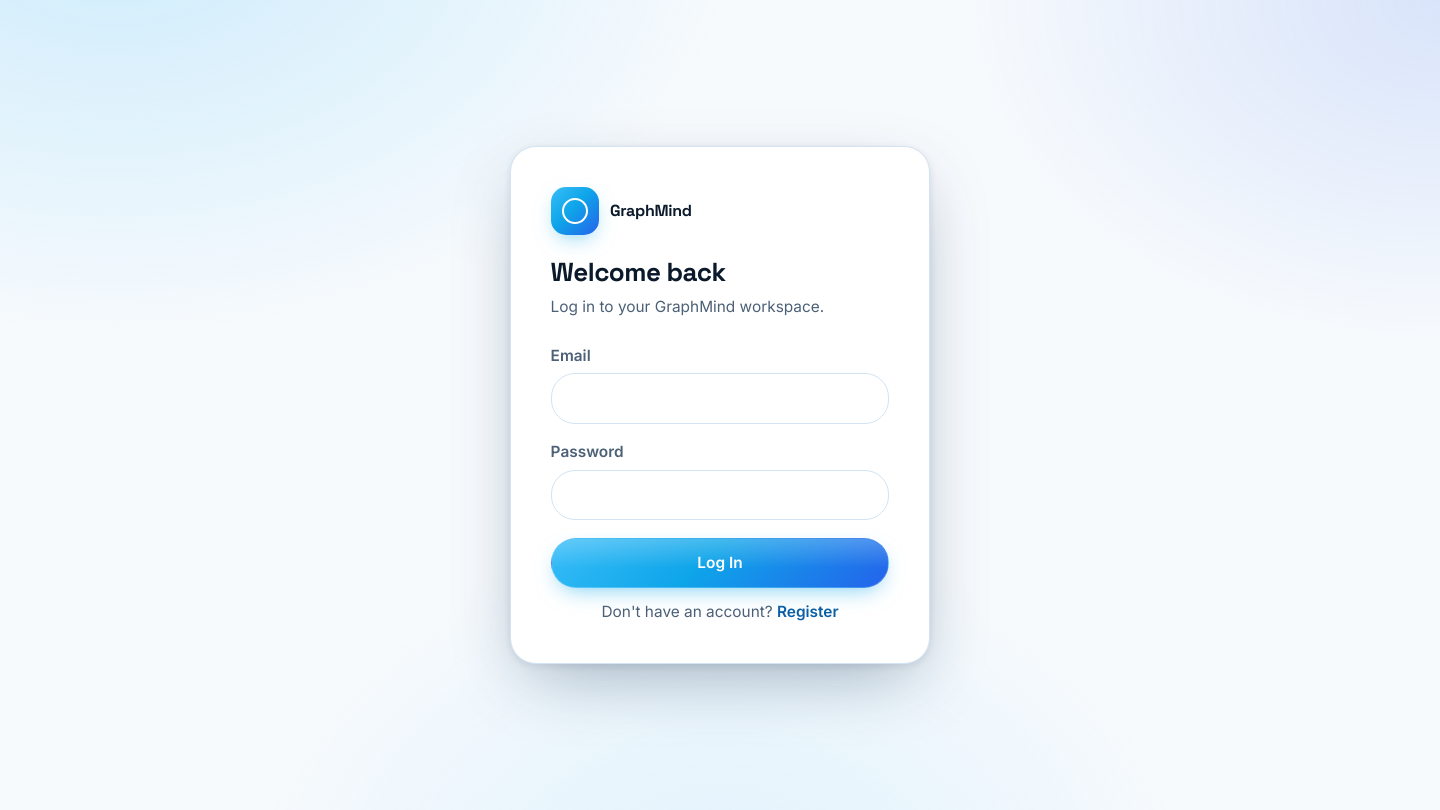
Test: LoginPage email-verification gate (Story 1.6) › offers a resend action when login rejects with a 403
The width and height of the screenshot is (1440, 810).
Type "maria@example.com" into the field labelled "Email" at (720, 398), box [551,373,889,424]
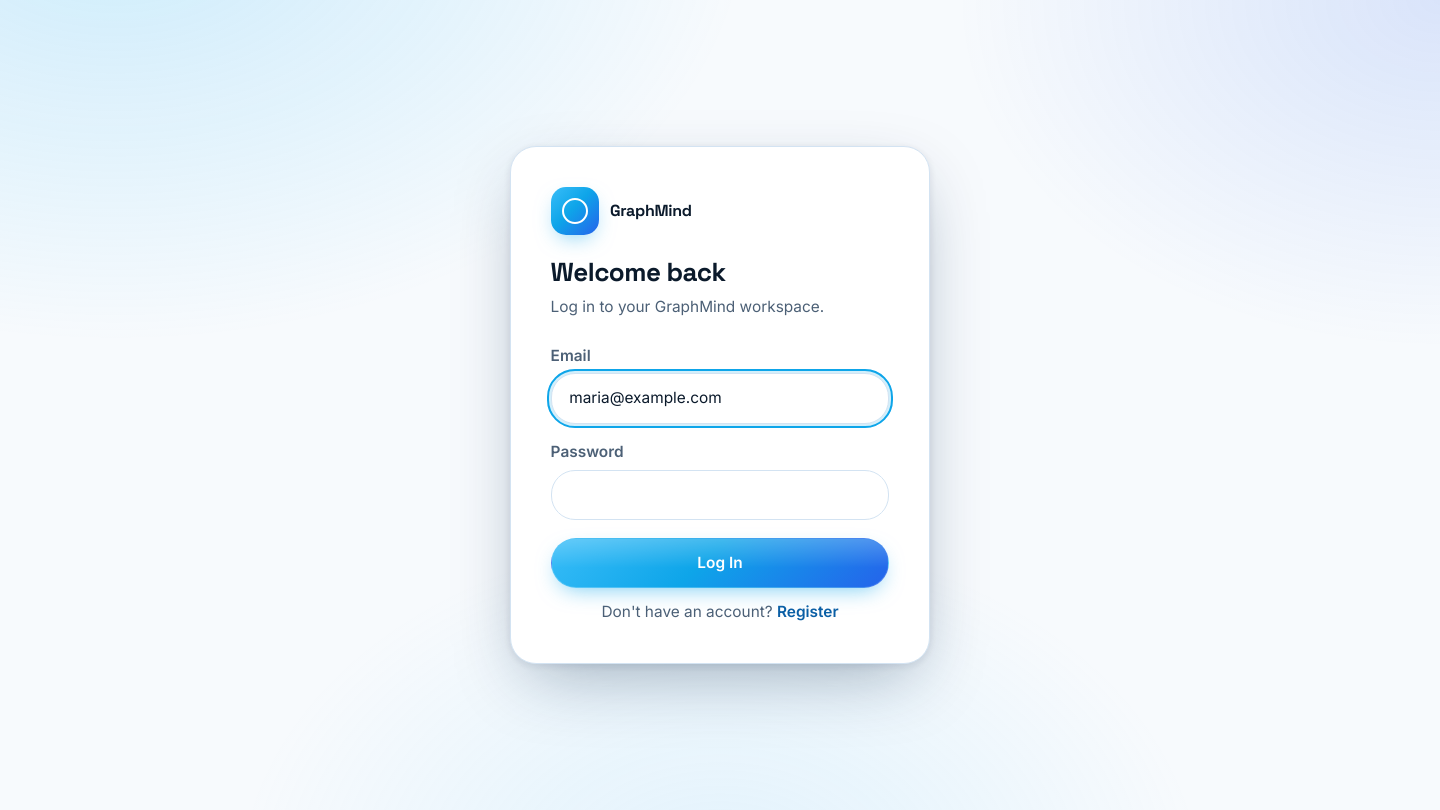
Type "correct horse battery staple" into the password field labelled "Password" at (720, 495), box [551,470,889,520]
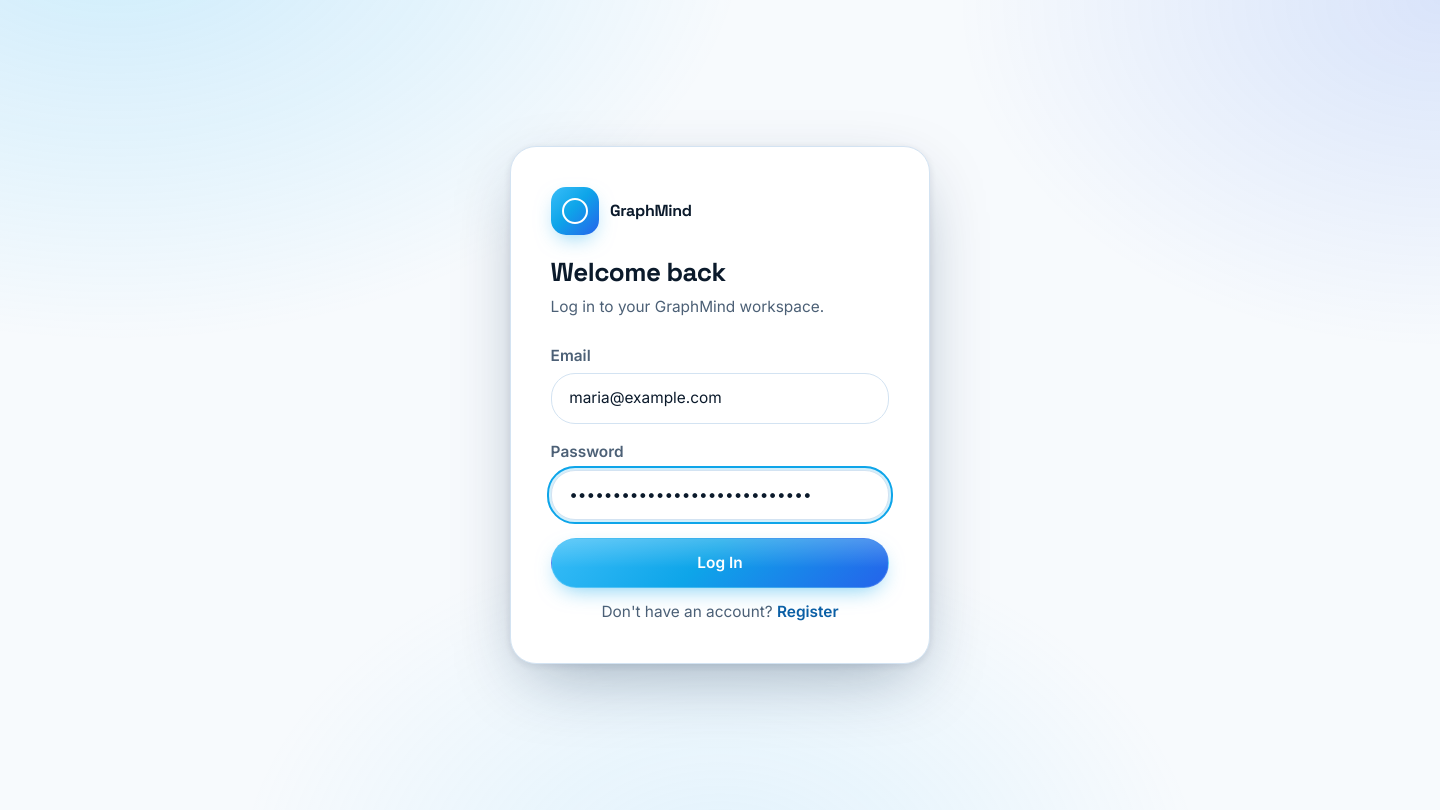
Click the button "Log In" at (720, 563), box [551,538,889,588]
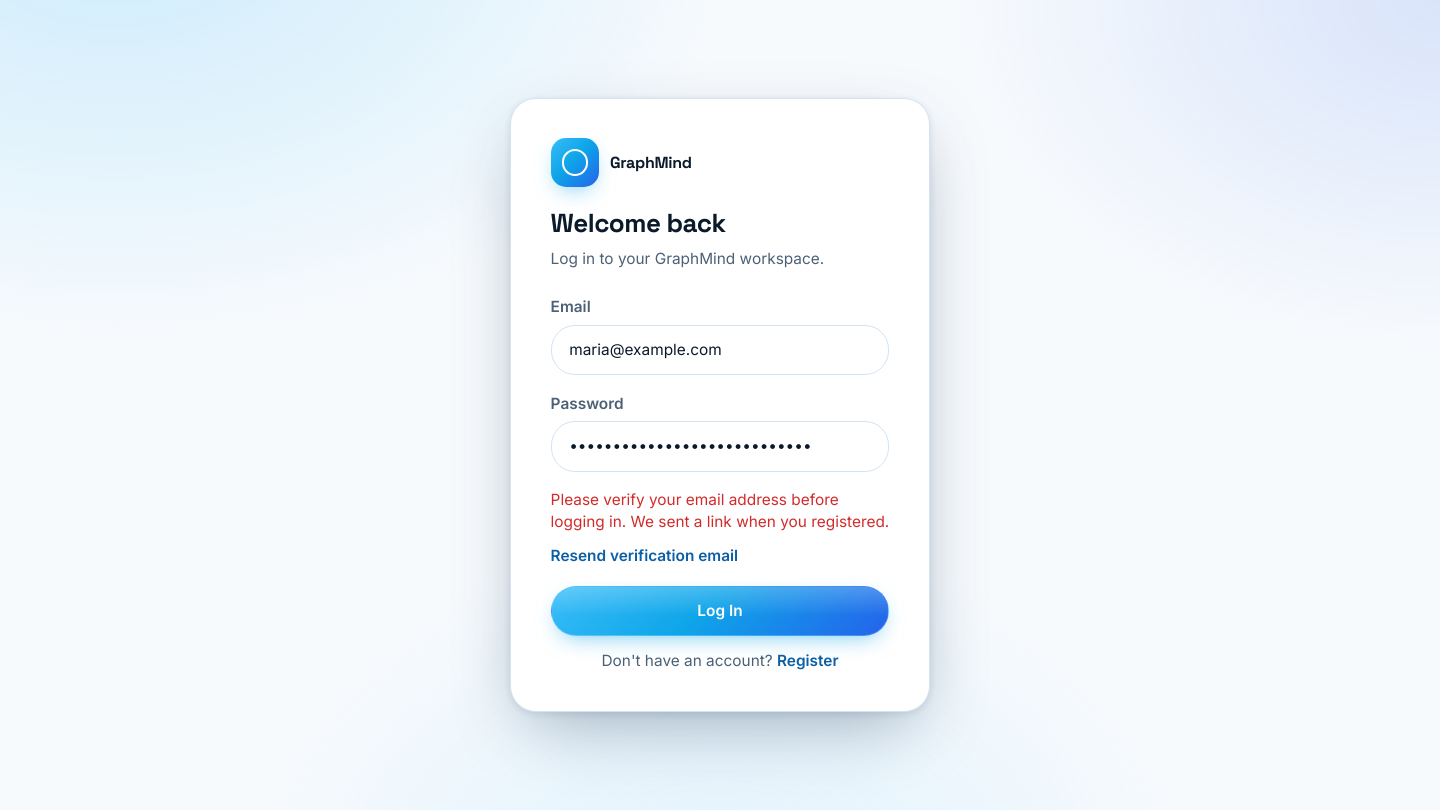
Now the message shows "verify your email", box [551,490,889,531]
Now the button "Resend verification email" is shown, box [551,545,738,567]
